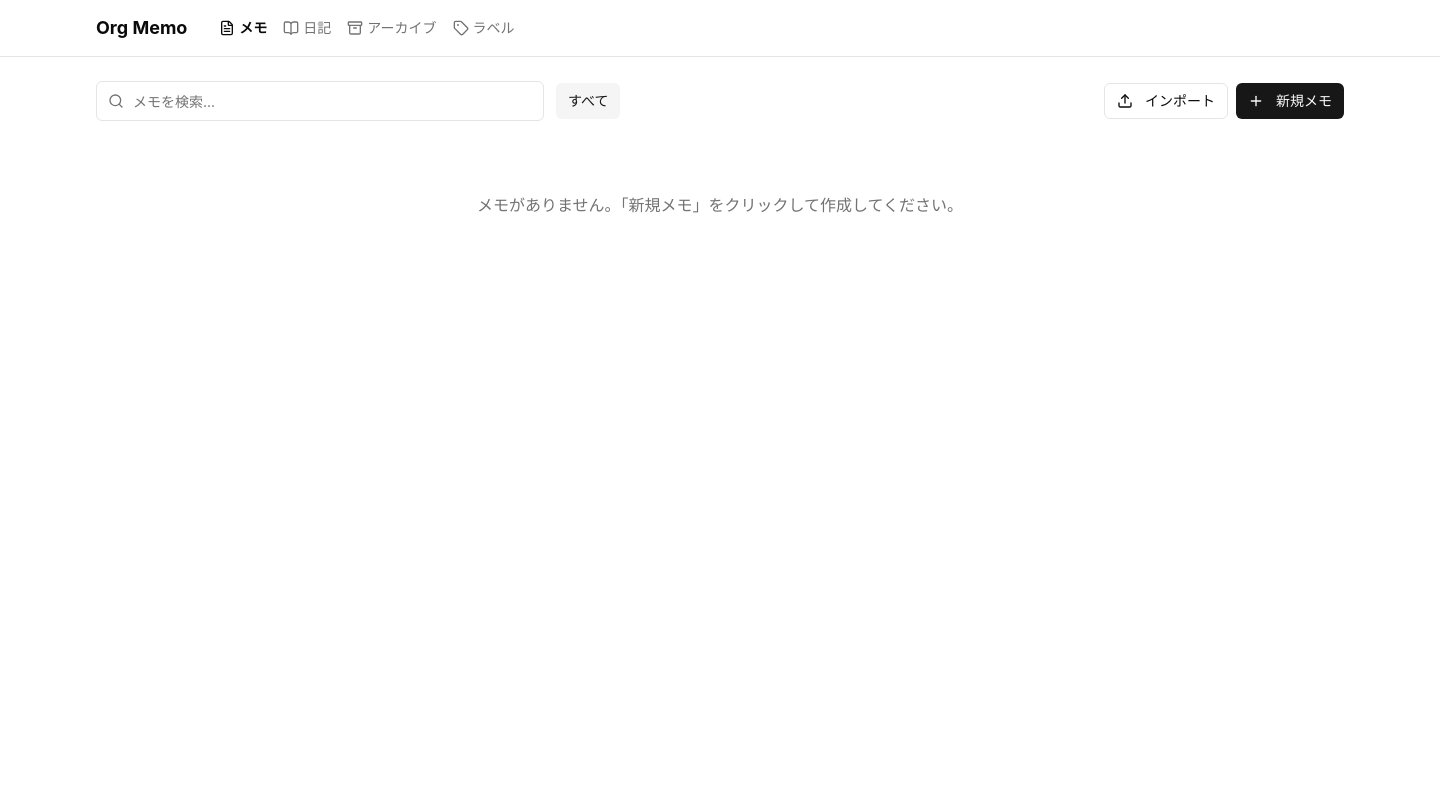
Scenario: インポートダイアログ › テキスト貼り付け→インポートで importOrgText が呼ばれ、ダイアログが閉じる
This screenshot has width=1440, height=810.
Expected: the text "メモがありません。「新規メモ」をクリックして作成してください。" is shown, [477, 195, 963, 215]
Click the button "インポート" at (1166, 101), box [1104, 83, 1228, 119]
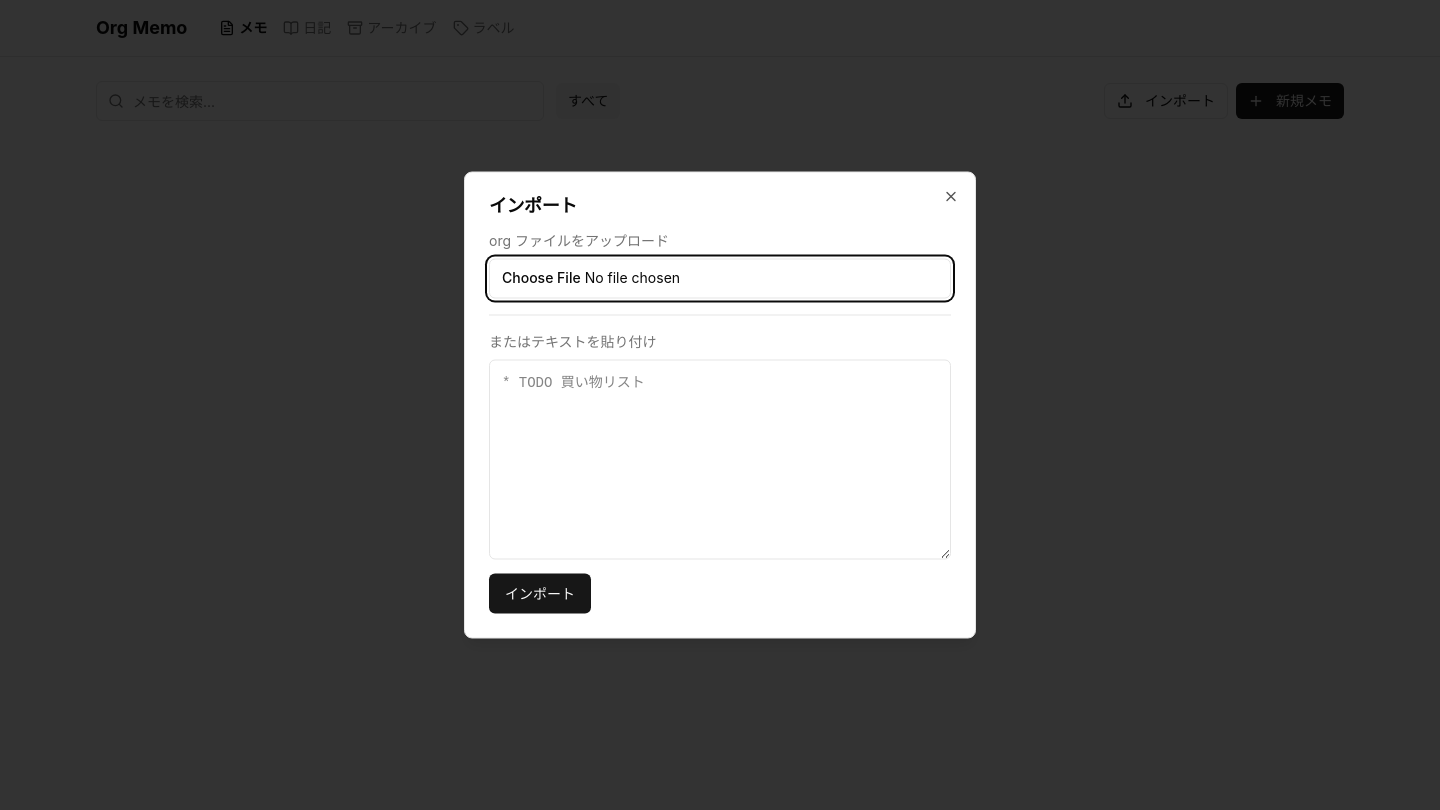
Type "* TODO test" into the text box with placeholder "* TODO 買い物リスト" at (720, 460), box [489, 360, 951, 560]
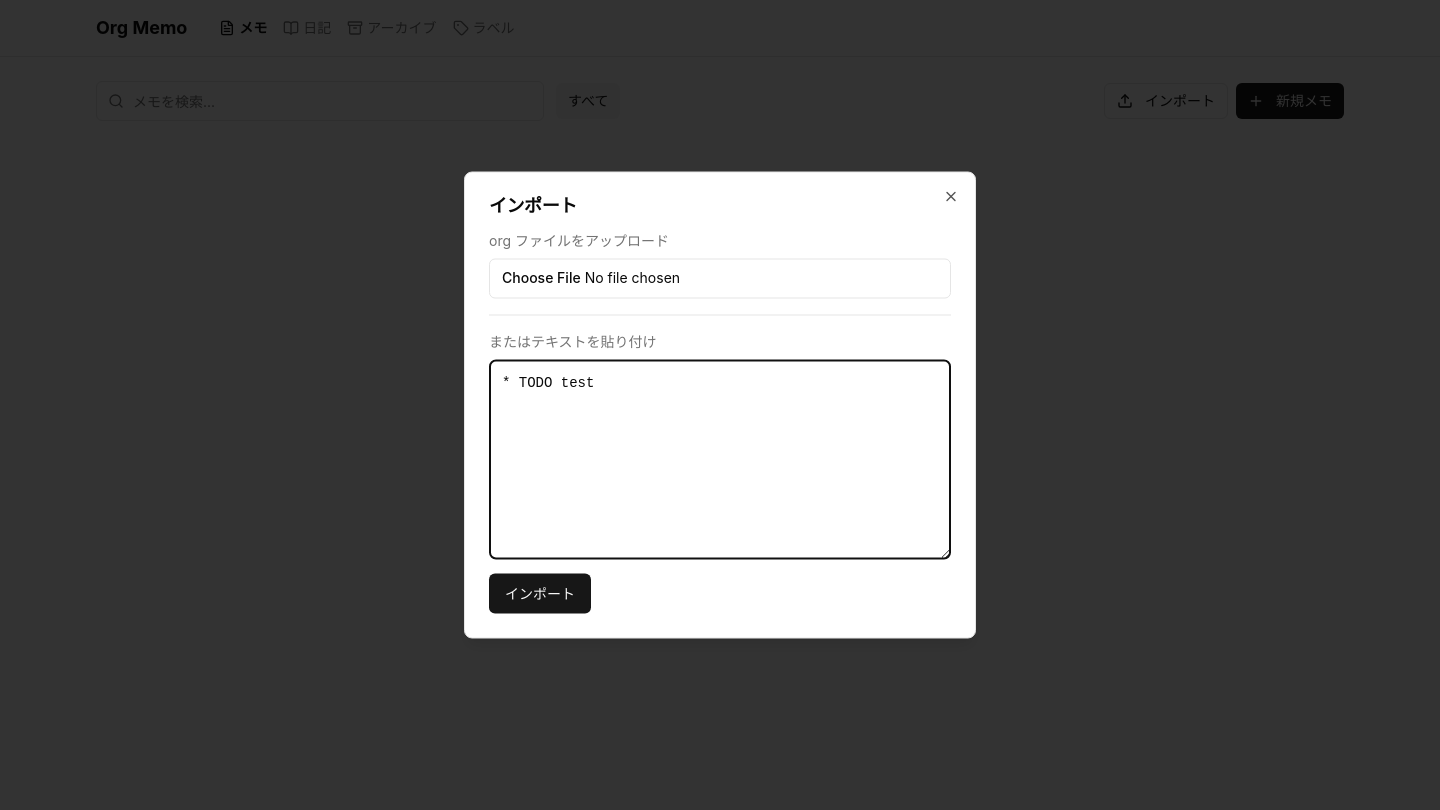
Click the button "インポート" at (540, 594), box [489, 574, 591, 614]
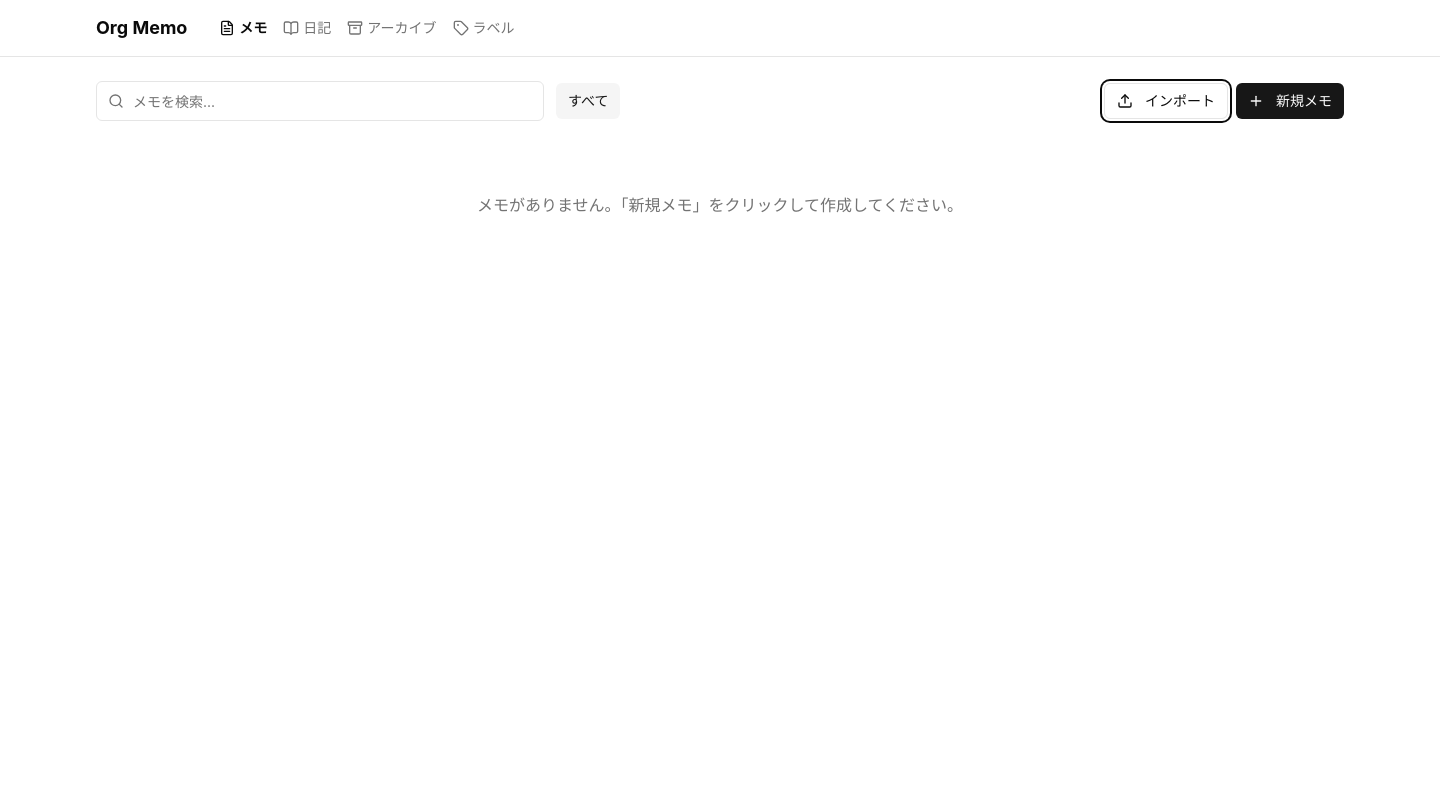
Result: the dialog is gone
